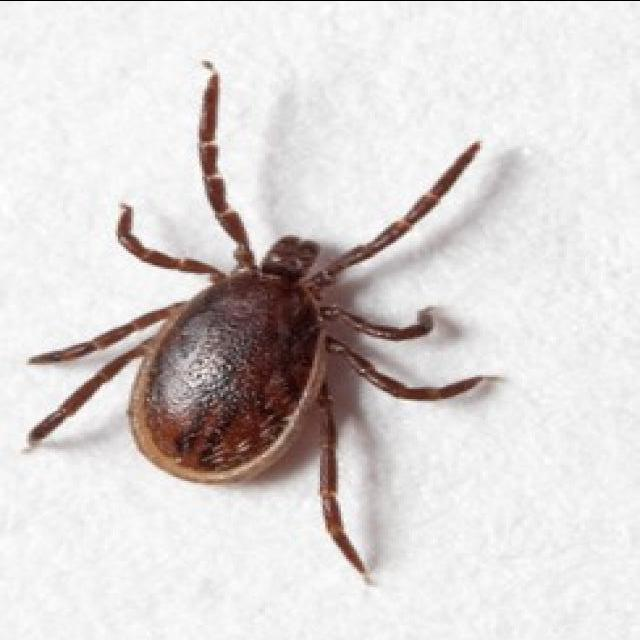Ixodes Ricinus-M: (29, 62, 498, 584)
